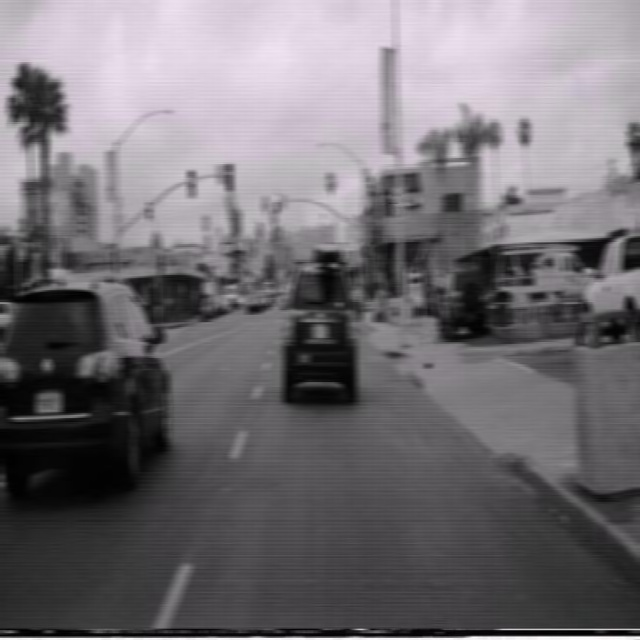speedLimit30: (391, 183, 406, 222)
